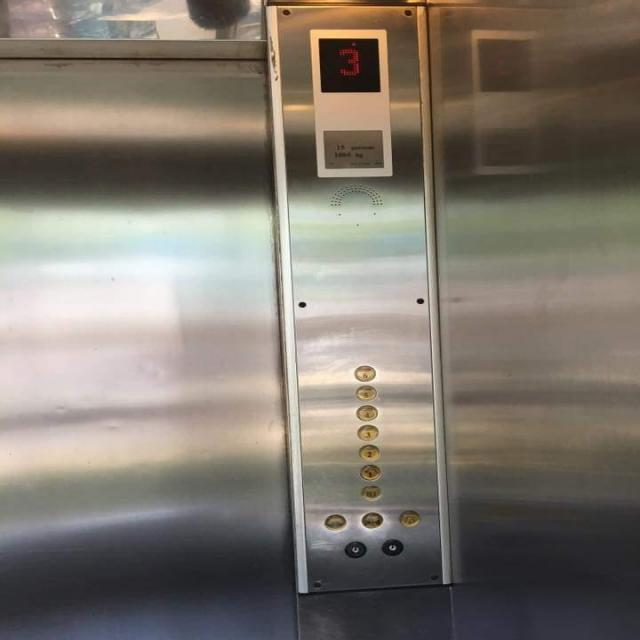1: (356, 462, 381, 480)
2: (356, 442, 380, 460)
3: (354, 422, 378, 440)
4: (354, 402, 378, 420)
5: (352, 382, 376, 400)
6: (351, 364, 375, 382)
alarm: (396, 508, 420, 526)
blur: (358, 482, 382, 500)
close: (358, 510, 382, 528)
keyhole: (378, 538, 402, 556), (342, 540, 366, 558)
led: (313, 32, 383, 96)
open: (322, 512, 346, 530)
